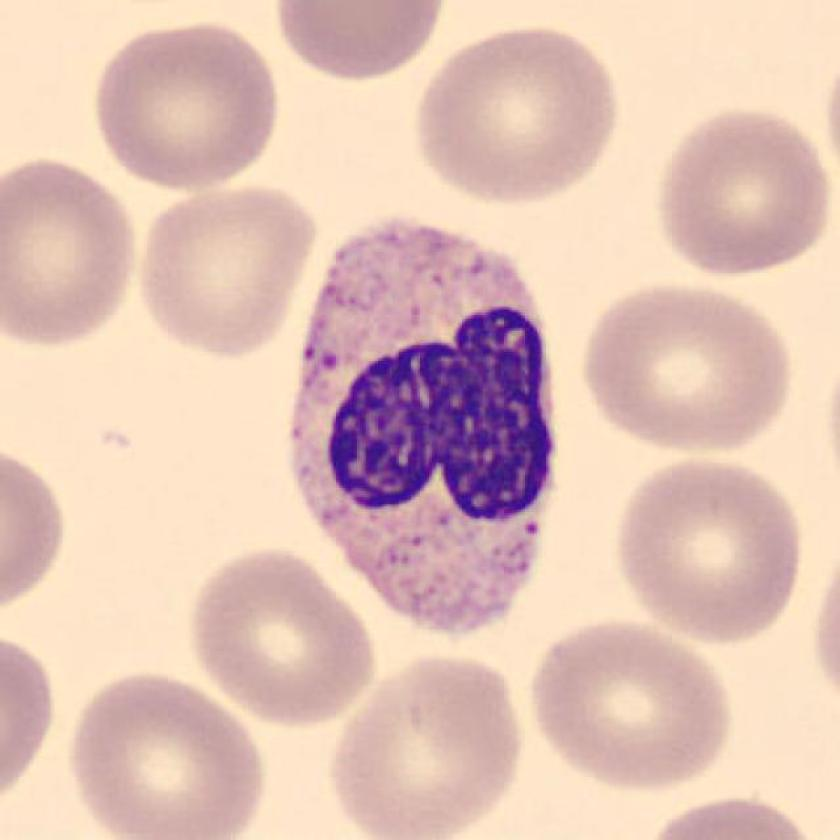neutrophil: (293, 224, 550, 635)
